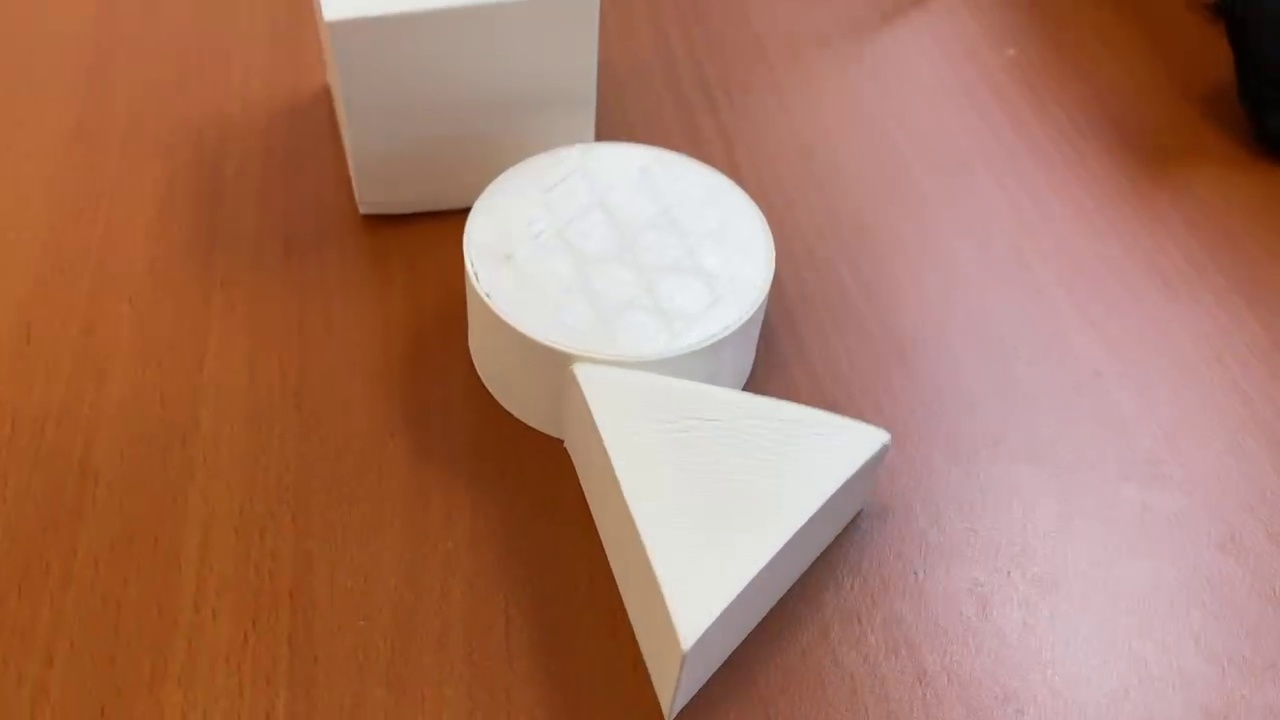Cylinder_short: (460, 142, 776, 439)
Triangle_short: (561, 358, 894, 720)
